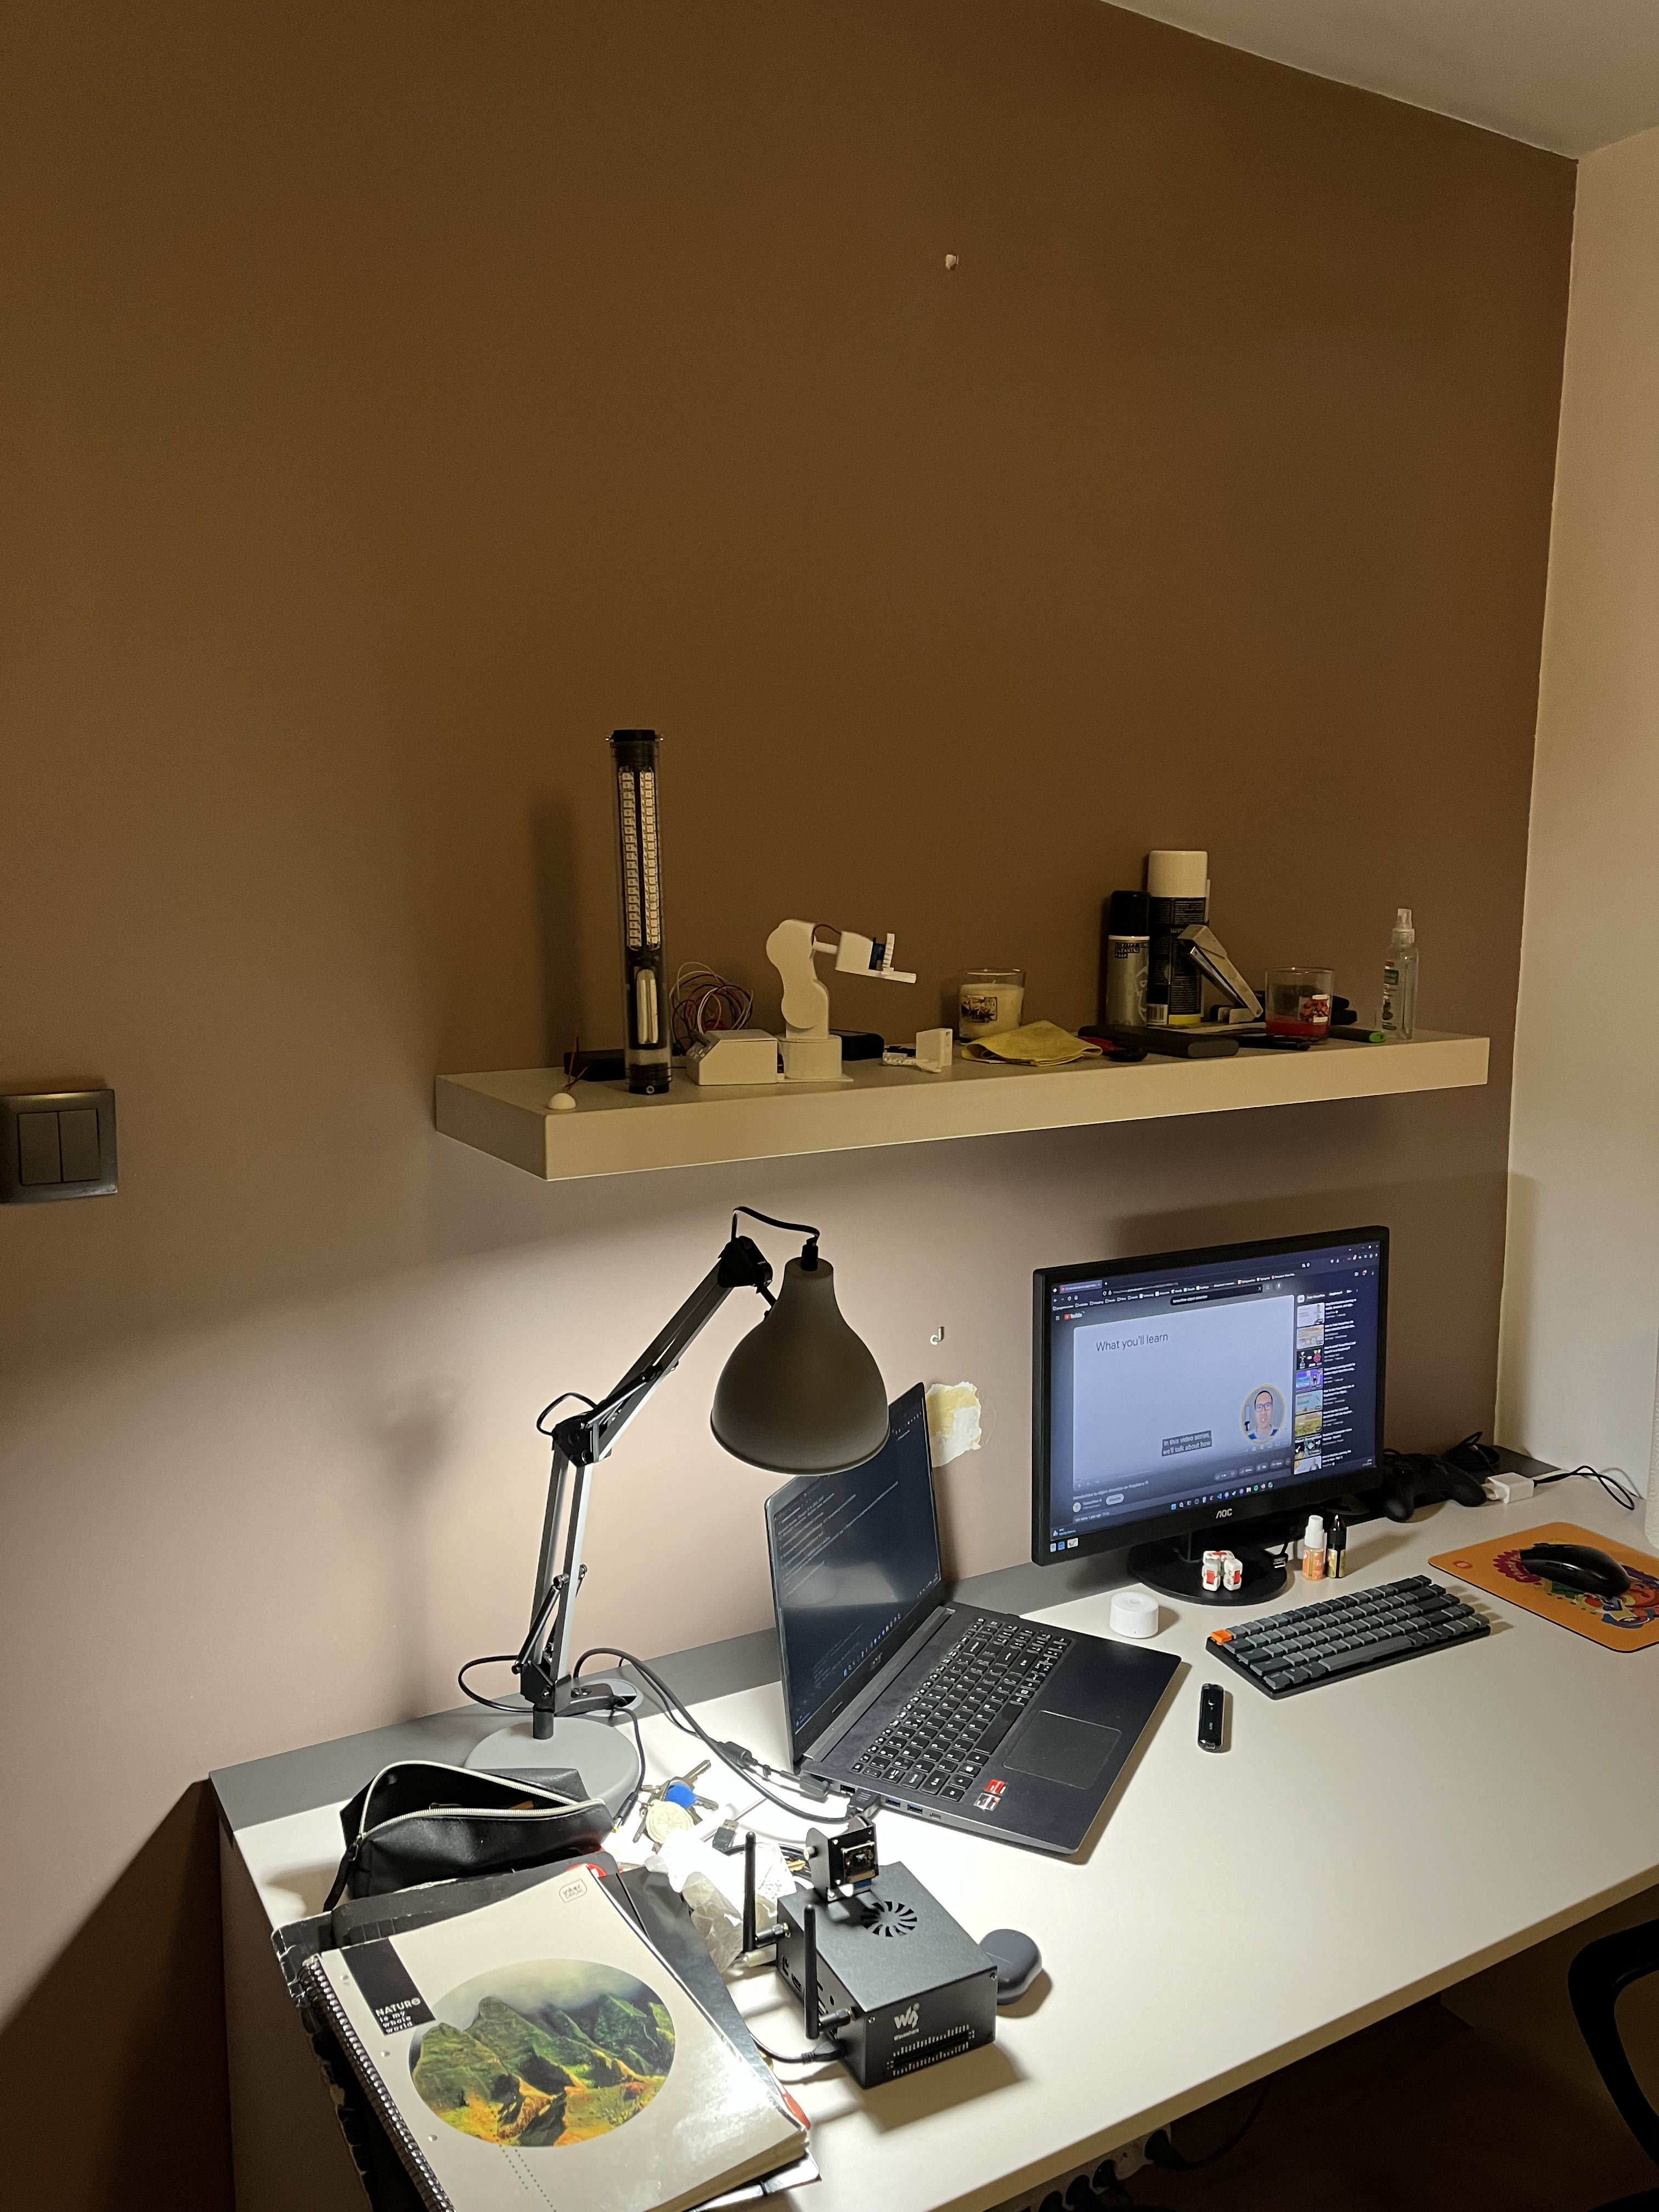black: (612, 737, 673, 1089)
